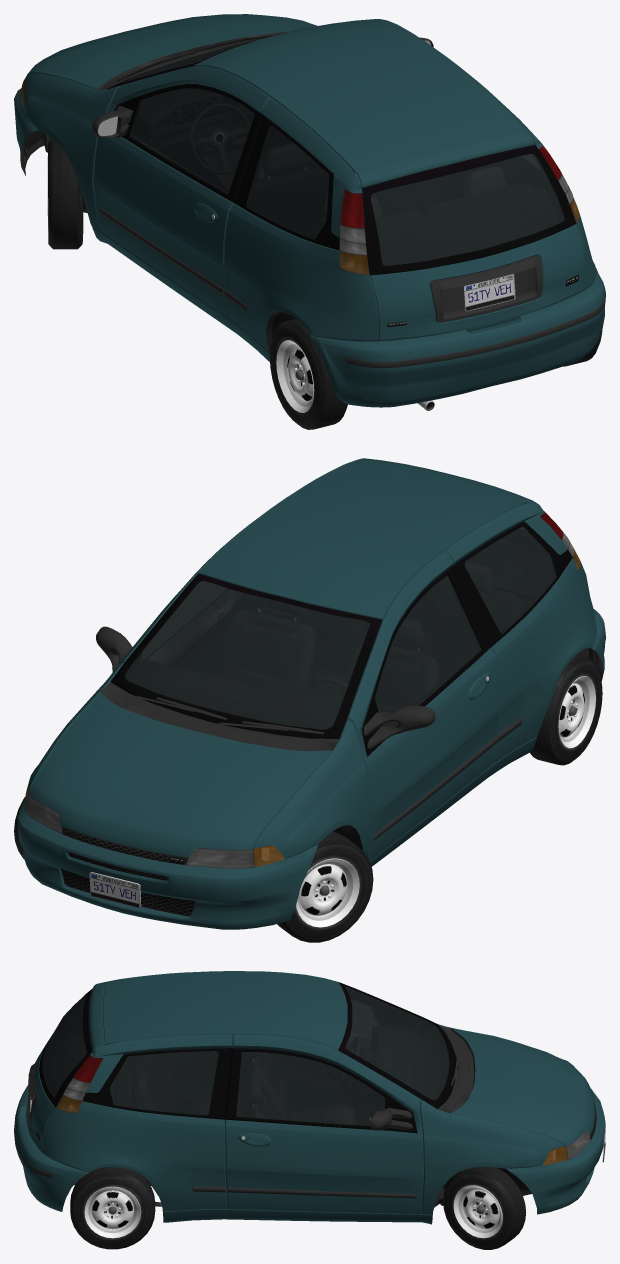
The model's file is milano.glb.
The picture shows the model from 3 angles, top to bottom: view 1: azimuth 30°, elevation 25°; view 2: azimuth 150°, elevation 25°; view 3: azimuth 270°, elevation 25°; orthographic projection. The views are drawn at different scales.
Visible parts, largest first — view 1: body, wheel_RL, wheel_FL, steer, lamp_tail_L, lamp_reverse_L, lamp_signal_L; view 2: body, wheel_FL, wheel_RL, lamp_head_L, lamp_head_R; view 3: body, wheel_RR, wheel_FR, lamp_signal_R, lamp_tail_R, lamp_reverse_R.
Part boxes in pixels (x1,y1,x2,y2): body: (14, 14, 605, 410); wheel_RL: (269, 318, 347, 429); wheel_FL: (47, 138, 83, 249); steer: (190, 103, 250, 174); lamp_tail_L: (340, 189, 364, 228); lamp_reverse_L: (339, 225, 366, 255); lamp_signal_L: (21, 78, 369, 275); body: (17, 458, 605, 929); wheel_FL: (277, 831, 373, 942); wheel_RL: (529, 655, 602, 765); lamp_head_L: (185, 848, 254, 868); lamp_head_R: (24, 793, 62, 834); body: (14, 971, 605, 1224); wheel_RR: (70, 1167, 155, 1249); wheel_FR: (443, 1167, 525, 1249); lamp_signal_R: (56, 1095, 567, 1165); lamp_tail_R: (73, 1055, 103, 1082); lamp_reverse_R: (63, 1078, 90, 1100).
Bounding box in the file's own units: 1.93 × 1.44 × 3.86.
15 materials, 14 textured.
